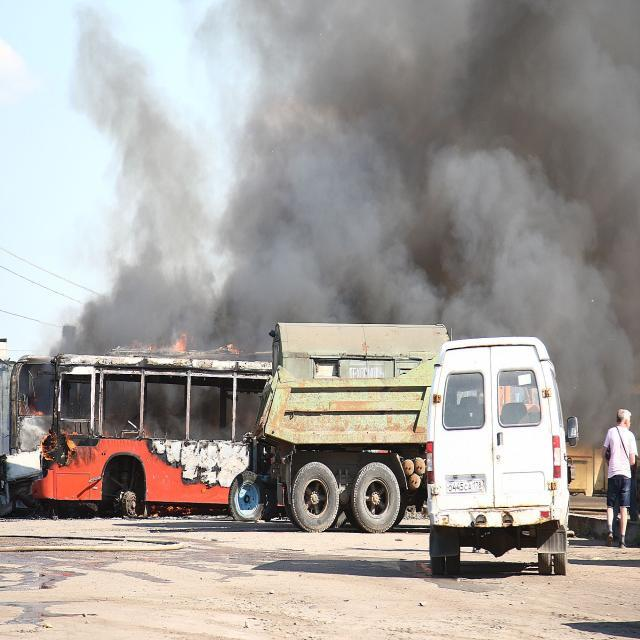Fire: (41, 428, 78, 466), (168, 331, 193, 352)
Smoke: (57, 0, 640, 357), (95, 372, 232, 440)
